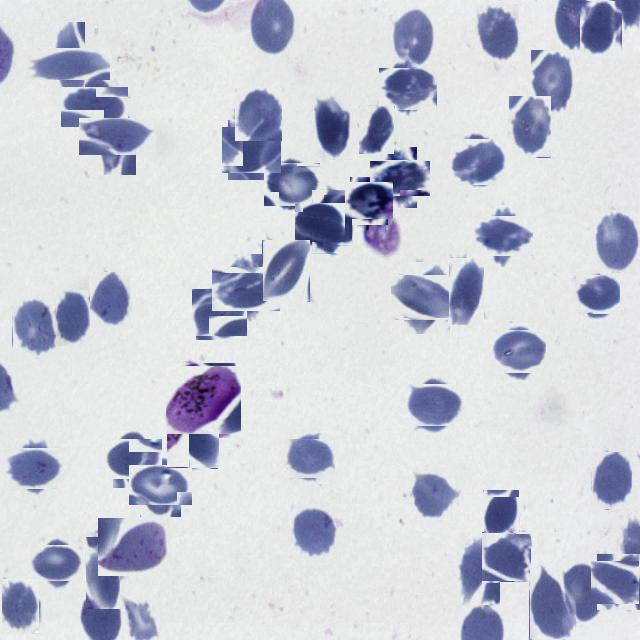gametocyte: (168, 364, 240, 436)
red blood cell: (98, 518, 170, 576), (398, 268, 457, 328), (529, 566, 576, 640), (88, 108, 146, 166), (40, 35, 98, 93), (218, 260, 274, 316), (457, 534, 500, 604), (262, 240, 310, 302), (594, 208, 640, 272), (67, 80, 121, 134), (134, 459, 187, 512), (225, 124, 278, 176), (531, 50, 574, 114), (453, 136, 505, 188), (194, 286, 246, 338), (392, 7, 436, 68), (508, 96, 551, 158), (477, 210, 528, 262), (311, 190, 352, 254), (474, 4, 519, 62), (409, 380, 460, 431), (12, 298, 56, 357), (561, 563, 603, 624), (10, 442, 60, 493), (168, 417, 218, 468), (412, 469, 459, 523), (492, 326, 542, 376), (384, 64, 434, 114), (267, 160, 317, 210), (313, 96, 352, 160), (235, 88, 282, 141), (109, 434, 158, 484), (86, 537, 120, 609), (448, 258, 484, 326), (482, 532, 531, 581), (290, 509, 336, 561), (89, 272, 130, 329), (591, 452, 632, 509), (580, 1, 622, 56), (376, 154, 424, 202), (593, 558, 640, 607), (1, 579, 39, 635), (286, 436, 332, 482), (36, 540, 80, 586), (54, 290, 90, 346), (298, 200, 342, 245), (574, 272, 618, 316), (483, 490, 519, 540), (348, 180, 390, 222), (360, 106, 396, 154)
